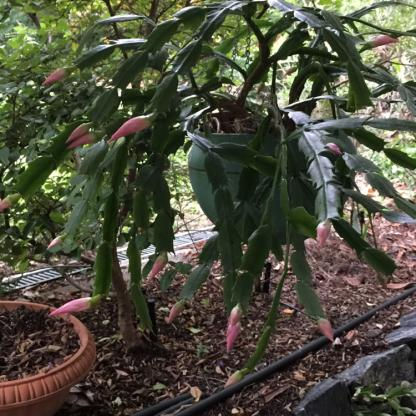Aglonema: (41, 81, 314, 356)
